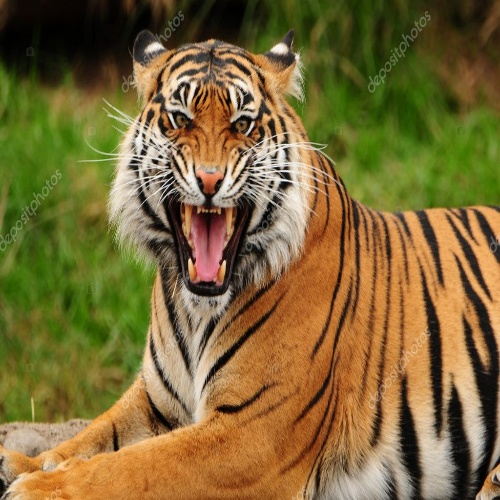tiger: (22, 26, 495, 497)
